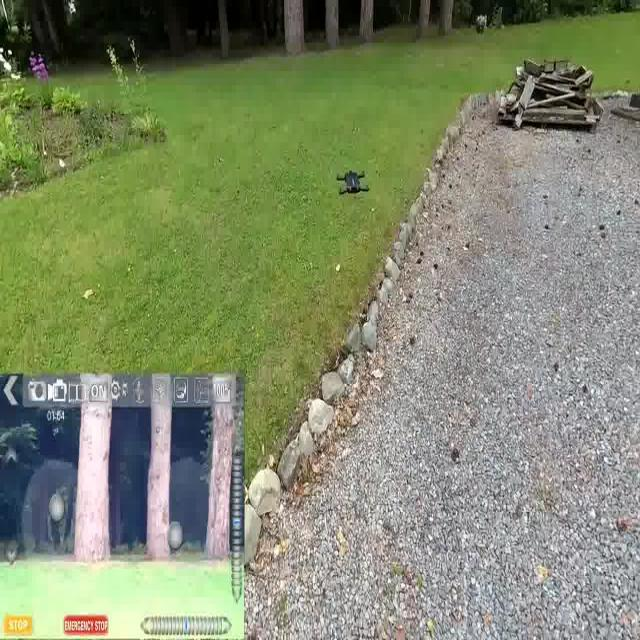drone: (335, 164, 374, 203)
